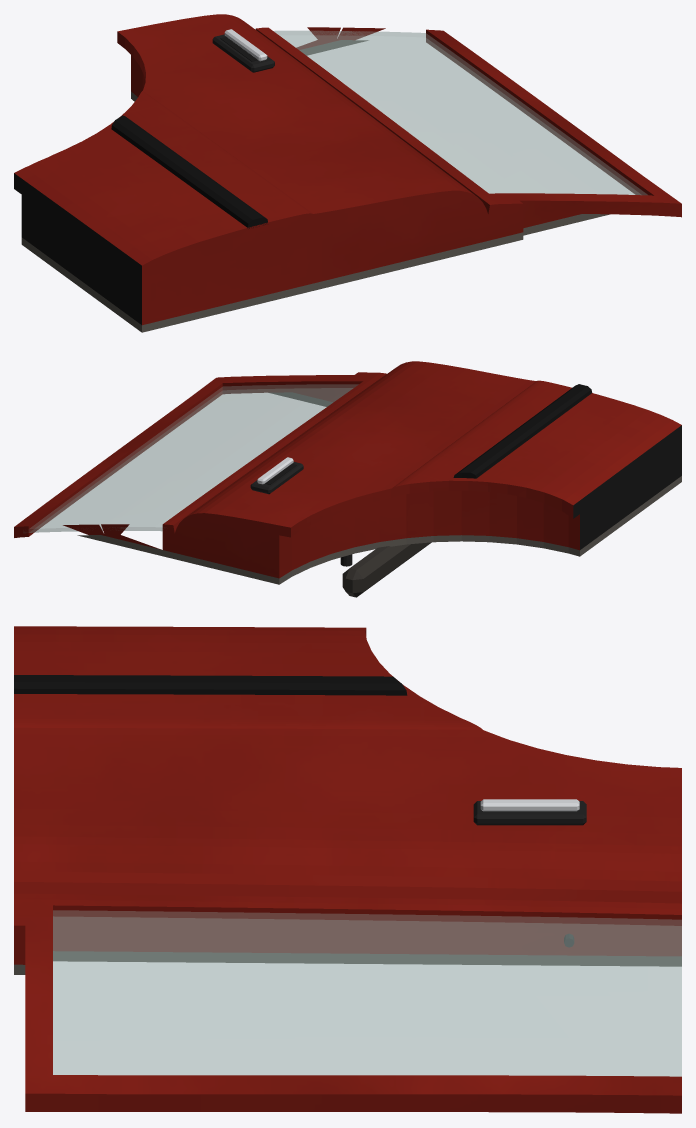
The model's file is porta_traseira_d_hatch.glb.
3 views of the same model, one above another, from view 1: azimuth 30°, elevation 25°; view 2: azimuth 150°, elevation 25°; view 3: azimuth 270°, elevation 25° (orthographic). The views are drawn at different scales.
Parts seen in each view (by area): view 1: porta_traseira_d_hatch_pintura, porta_traseira_d_hatch_vidro, porta_traseira_d_hatch_chassi, porta_traseira_d_hatch_forro_porta, porta_traseira_d_hatch_borracha, porta_traseira_d_hatch_plastico_preto; view 2: porta_traseira_d_hatch_pintura, porta_traseira_d_hatch_vidro, porta_traseira_d_hatch_chassi, porta_traseira_d_hatch_forro_porta, porta_traseira_d_hatch_borracha, porta_traseira_d_hatch_vinil, porta_traseira_d_hatch_plastico_preto; view 3: porta_traseira_d_hatch_pintura, porta_traseira_d_hatch_vidro, porta_traseira_d_hatch_borracha, porta_traseira_d_hatch_forro_porta, porta_traseira_d_hatch_plastico_preto, porta_traseira_d_hatch_cromado.
Boxes of the visible parts, left/top/right/bottom form: porta_traseira_d_hatch_pintura: left=14, top=14, right=681, bottom=325; porta_traseira_d_hatch_vidro: left=274, top=30, right=647, bottom=195; porta_traseira_d_hatch_chassi: left=14, top=36, right=257, bottom=324; porta_traseira_d_hatch_forro_porta: left=21, top=40, right=609, bottom=332; porta_traseira_d_hatch_borracha: left=111, top=115, right=267, bottom=228; porta_traseira_d_hatch_plastico_preto: left=212, top=34, right=274, bottom=72; porta_traseira_d_hatch_pintura: left=14, top=361, right=681, bottom=578; porta_traseira_d_hatch_vidro: left=23, top=384, right=358, bottom=532; porta_traseira_d_hatch_chassi: left=265, top=425, right=681, bottom=549; porta_traseira_d_hatch_forro_porta: left=77, top=392, right=681, bottom=584; porta_traseira_d_hatch_borracha: left=453, top=384, right=592, bottom=478; porta_traseira_d_hatch_vinil: left=342, top=542, right=431, bottom=597; porta_traseira_d_hatch_plastico_preto: left=250, top=462, right=352, bottom=566; porta_traseira_d_hatch_pintura: left=14, top=626, right=681, bottom=1113; porta_traseira_d_hatch_vidro: left=53, top=910, right=681, bottom=1076; porta_traseira_d_hatch_borracha: left=14, top=675, right=407, bottom=695; porta_traseira_d_hatch_forro_porta: left=14, top=951, right=681, bottom=974; porta_traseira_d_hatch_plastico_preto: left=473, top=801, right=586, bottom=947; porta_traseira_d_hatch_cromado: left=480, top=799, right=579, bottom=811.
Size of the model in its own units: 0.997 by 0.2052 by 0.77.
9 materials, 1 textured.
